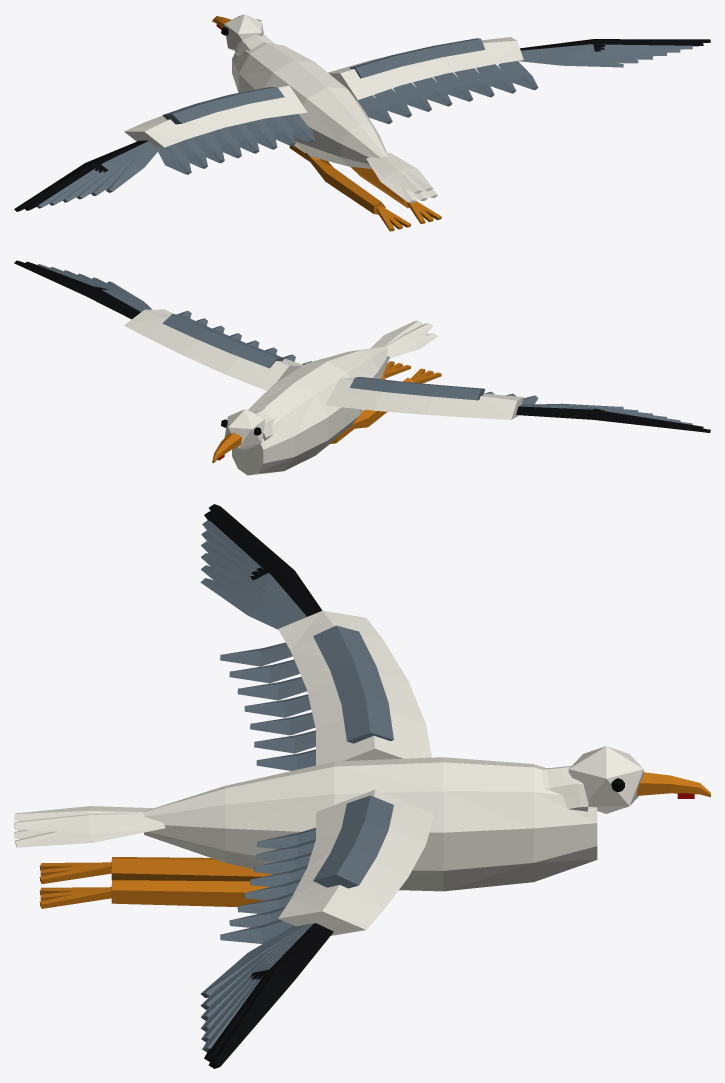
Rendered from ANIMAL_02_Seagull.obj.
3 renders of one model, top to bottom at view 1: azimuth 30°, elevation 25°; view 2: azimuth 150°, elevation 25°; view 3: azimuth 270°, elevation 25°, orthographic. The views are drawn at different scales.
Parts seen in each view (by area): view 1: ANIMAL_02_Seagull_Body, ANIMAL_02_Seagull_Wing_L_Secondaries, ANIMAL_02_Seagull_Wing_R_Secondaries, ANIMAL_02_Seagull_Wing_L_Arm, ANIMAL_02_Seagull_Wing_R_Arm, ANIMAL_02_Seagull_Wing_L_Primaries, ANIMAL_02_Seagull_Wing_R_Primaries, ANIMAL_02_Seagull_Tail, ANIMAL_02_Seagull_Wing_L_Coverts, ANIMAL_02_Seagull_Wing_R_Coverts, ANIMAL_02_Seagull_Leg_R, ANIMAL_02_Seagull_Wing_R_Tips (+6 smaller); view 2: ANIMAL_02_Seagull_Body, ANIMAL_02_Seagull_Wing_R_Arm, ANIMAL_02_Seagull_Wing_L_Arm, ANIMAL_02_Seagull_Wing_L_Coverts, ANIMAL_02_Seagull_Wing_R_Tips, ANIMAL_02_Seagull_Wing_R_Coverts, ANIMAL_02_Seagull_Wing_L_Tips, ANIMAL_02_Seagull_Tail, ANIMAL_02_Seagull_Head, ANIMAL_02_Seagull_Wing_L_Primaries, ANIMAL_02_Seagull_Wing_R_Primaries, ANIMAL_02_Seagull_Leg_R (+2 smaller); view 3: ANIMAL_02_Seagull_Body, ANIMAL_02_Seagull_Wing_R_Arm, ANIMAL_02_Seagull_Wing_L_Arm, ANIMAL_02_Seagull_Wing_R_Secondaries, ANIMAL_02_Seagull_Wing_R_Coverts, ANIMAL_02_Seagull_Wing_L_Secondaries, ANIMAL_02_Seagull_Wing_R_Primaries, ANIMAL_02_Seagull_Tail, ANIMAL_02_Seagull_Wing_L_Tips, ANIMAL_02_Seagull_Wing_L_Coverts, ANIMAL_02_Seagull_Wing_L_Primaries, ANIMAL_02_Seagull_Leg_L (+7 smaller).
Boxes of the visible parts, x1,y1,x2,y2 form: ANIMAL_02_Seagull_Body: (232,43,387,168); ANIMAL_02_Seagull_Wing_L_Secondaries: (357,61,538,124); ANIMAL_02_Seagull_Wing_R_Secondaries: (158,114,314,174); ANIMAL_02_Seagull_Wing_L_Arm: (328,37,523,100); ANIMAL_02_Seagull_Wing_R_Arm: (124,85,307,147); ANIMAL_02_Seagull_Wing_L_Primaries: (518,44,692,67); ANIMAL_02_Seagull_Wing_R_Primaries: (37,141,160,208); ANIMAL_02_Seagull_Tail: (366,152,437,203); ANIMAL_02_Seagull_Wing_L_Coverts: (349,38,485,78); ANIMAL_02_Seagull_Wing_R_Coverts: (162,87,284,124); ANIMAL_02_Seagull_Leg_R: (289,145,385,214); ANIMAL_02_Seagull_Wing_R_Tips: (14,140,147,211); ANIMAL_02_Seagull_Body: (232,346,389,475); ANIMAL_02_Seagull_Wing_R_Arm: (325,378,523,419); ANIMAL_02_Seagull_Wing_L_Arm: (124,309,303,390); ANIMAL_02_Seagull_Wing_L_Coverts: (162,314,284,368); ANIMAL_02_Seagull_Wing_R_Tips: (516,406,710,432); ANIMAL_02_Seagull_Wing_R_Coverts: (349,377,485,400); ANIMAL_02_Seagull_Wing_L_Tips: (14,260,140,319); ANIMAL_02_Seagull_Tail: (370,320,437,358); ANIMAL_02_Seagull_Head: (224,409,265,449); ANIMAL_02_Seagull_Wing_L_Primaries: (37,264,151,311); ANIMAL_02_Seagull_Wing_R_Primaries: (519,403,692,424); ANIMAL_02_Seagull_Leg_R: (330,377,415,443); ANIMAL_02_Seagull_Body: (144,757,597,891); ANIMAL_02_Seagull_Wing_R_Arm: (278,610,431,765); ANIMAL_02_Seagull_Wing_L_Arm: (278,789,433,935); ANIMAL_02_Seagull_Wing_R_Secondaries: (220,642,315,770); ANIMAL_02_Seagull_Wing_R_Coverts: (313,625,393,743); ANIMAL_02_Seagull_Wing_L_Secondaries: (220,827,315,943); ANIMAL_02_Seagull_Wing_R_Primaries: (200,520,306,629); ANIMAL_02_Seagull_Tail: (14,806,165,847); ANIMAL_02_Seagull_Wing_L_Tips: (204,923,333,1068); ANIMAL_02_Seagull_Wing_L_Coverts: (313,795,393,888); ANIMAL_02_Seagull_Wing_L_Primaries: (200,923,313,1052); ANIMAL_02_Seagull_Leg_L: (111,880,269,906).
Bounding box in the file's own units: 1.35 × 0.1672 × 0.7074.
